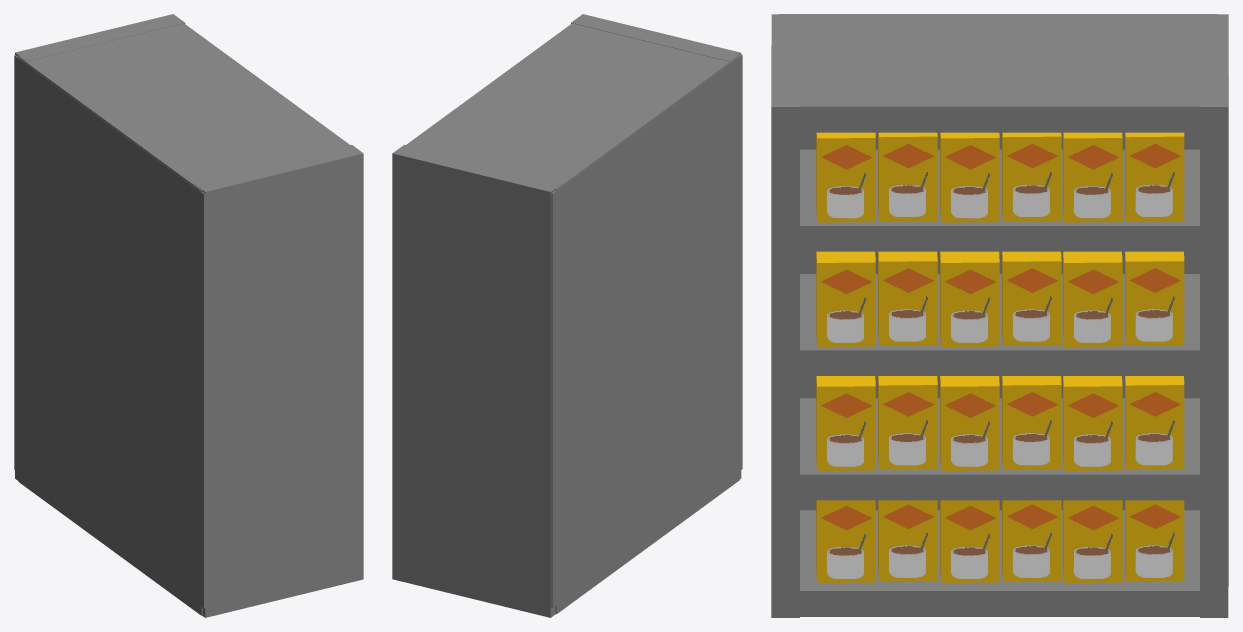
File: yellow_cereal_shelf.gltf
3 views of the same model, side by side, from view 1: azimuth 30°, elevation 25°; view 2: azimuth 150°, elevation 25°; view 3: azimuth 270°, elevation 25° (orthographic). The views are drawn at different scales.
Parts seen in each view (by area): view 1: Cube.001; view 2: Cube.001; view 3: Cube.001, Cube.006, Cube.005, Cube.007, Cube.004.
Boxes of the visible parts, box(x1,y1,x2,y2) form: Cube.001: box(14, 14, 363, 617); Cube.001: box(392, 14, 742, 617); Cube.001: box(771, 14, 1228, 617); Cube.006: box(816, 251, 1184, 346); Cube.005: box(816, 376, 1184, 470); Cube.007: box(816, 132, 1184, 222); Cube.004: box(816, 500, 1184, 582).
Size of the model in its own units: 4.03 by 10.28 by 8.34.
Materials: 3 (1 with a texture image).
